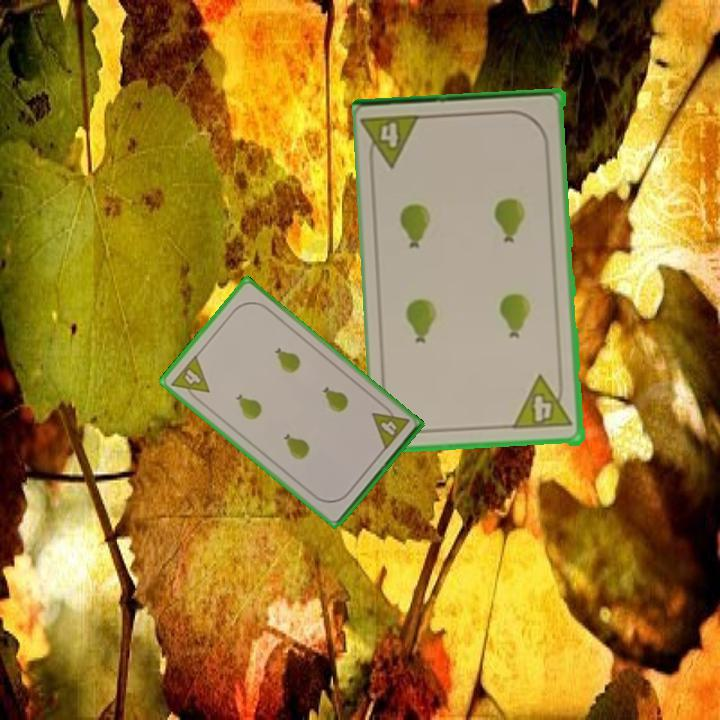4p: (361, 111, 426, 172), (511, 373, 576, 433), (167, 351, 212, 406), (368, 400, 412, 453)
